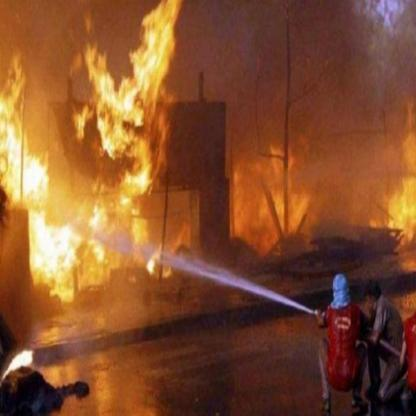fire: (0, 1, 190, 310), (231, 139, 316, 253), (368, 94, 416, 247)
